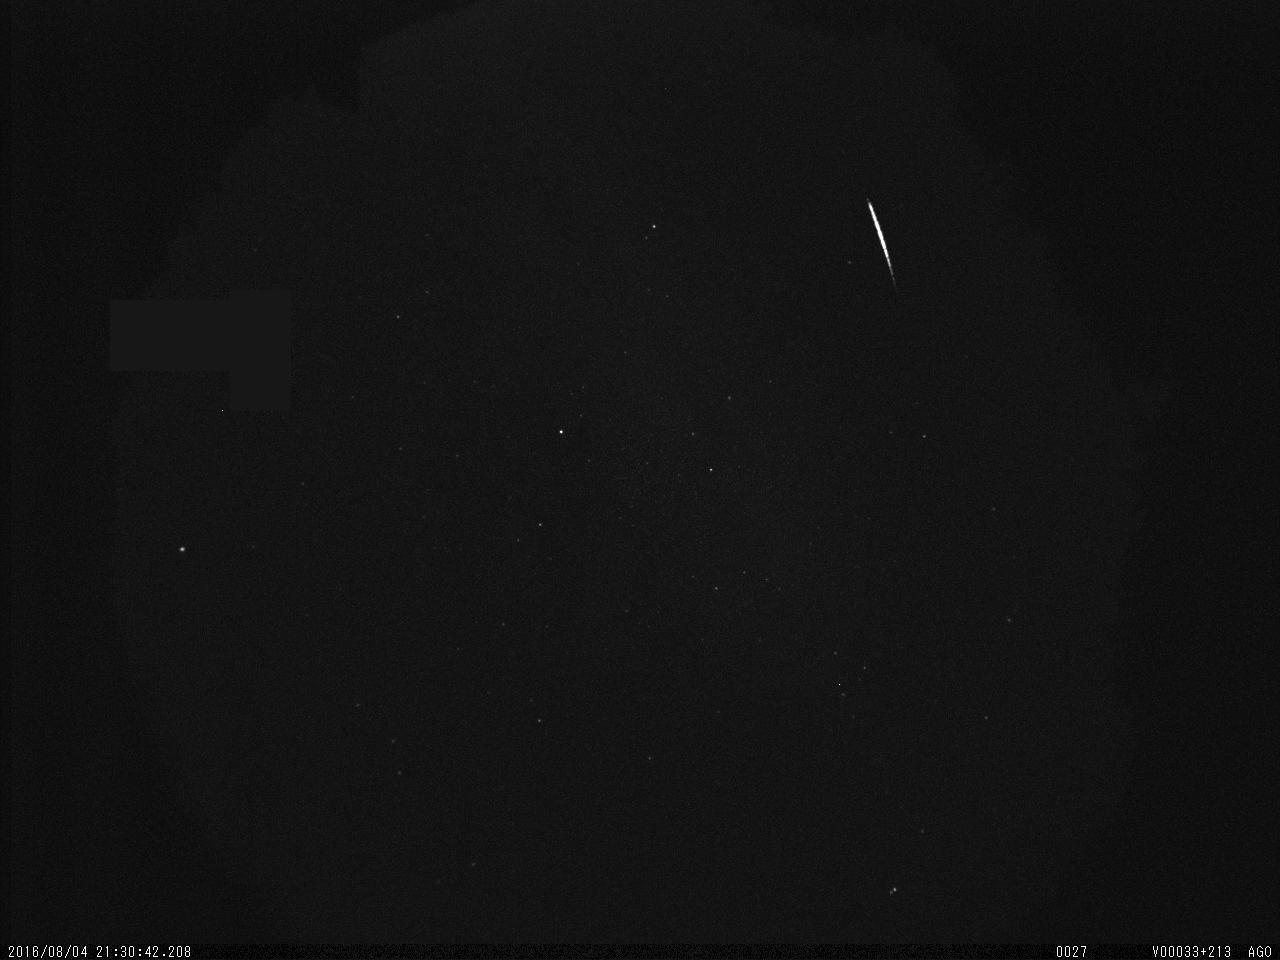meteor: (859, 189, 910, 287)
